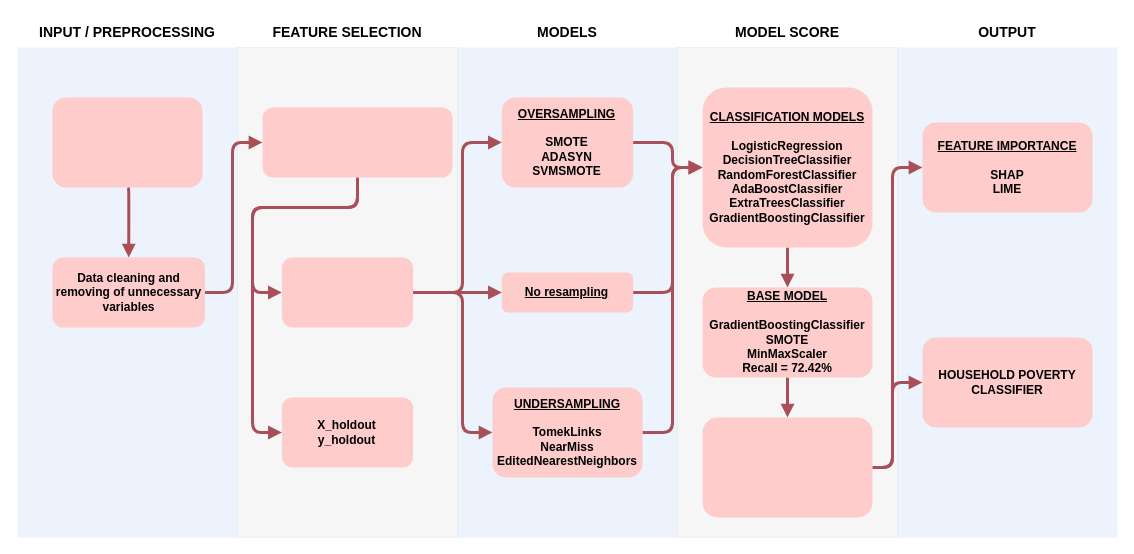
Image size: 1134x554. Some labels were removed from this diagram. The box of each missing label's shape, as (x1, y1, x2, y2) in pixels:
Cabanatuan CBMS 2018: (52, 97, 202, 187)
HYPERTUNING GridSearchCV learning_rate = 0.01 max_depth = 3 n_estimators = 500: (702, 417, 872, 517)
StratifiedKFold X_trainval y_trainval: (281, 257, 413, 327)
TrainTestSplit test_size = 0.25: (262, 107, 452, 177)
